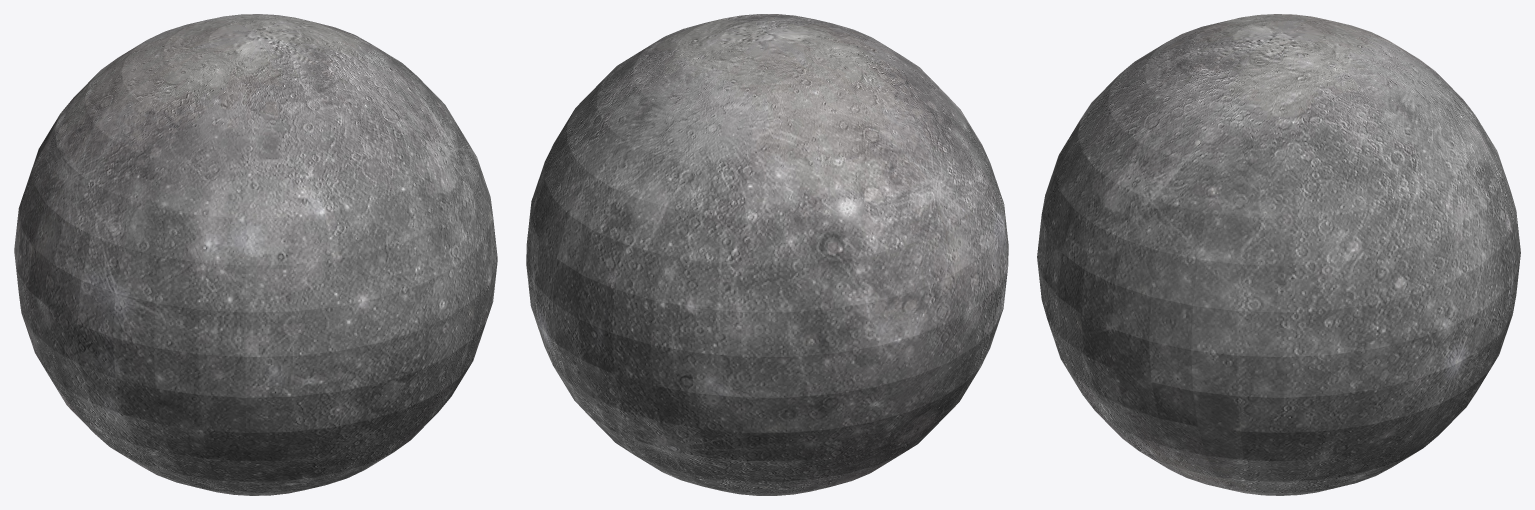
Rendered from mercury.obj.
3 views of the same model, side by side, from view 1: azimuth 30°, elevation 25°; view 2: azimuth 150°, elevation 25°; view 3: azimuth 270°, elevation 25° (orthographic).
Parts seen in each view (by area): view 1: Sphere; view 2: Sphere; view 3: Sphere.
Boxes of the visible parts, bbox=[...] form: Sphere: bbox=[14, 14, 497, 495]; Sphere: bbox=[526, 14, 1008, 495]; Sphere: bbox=[1037, 14, 1520, 495].
Size of the model in its own units: 2 by 2 by 2.
Materials: 1 (1 with a texture image).
